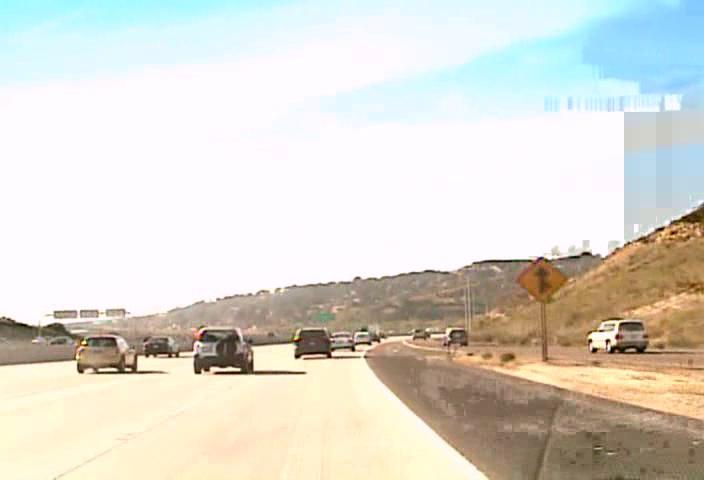merge: (515, 256, 567, 303)
